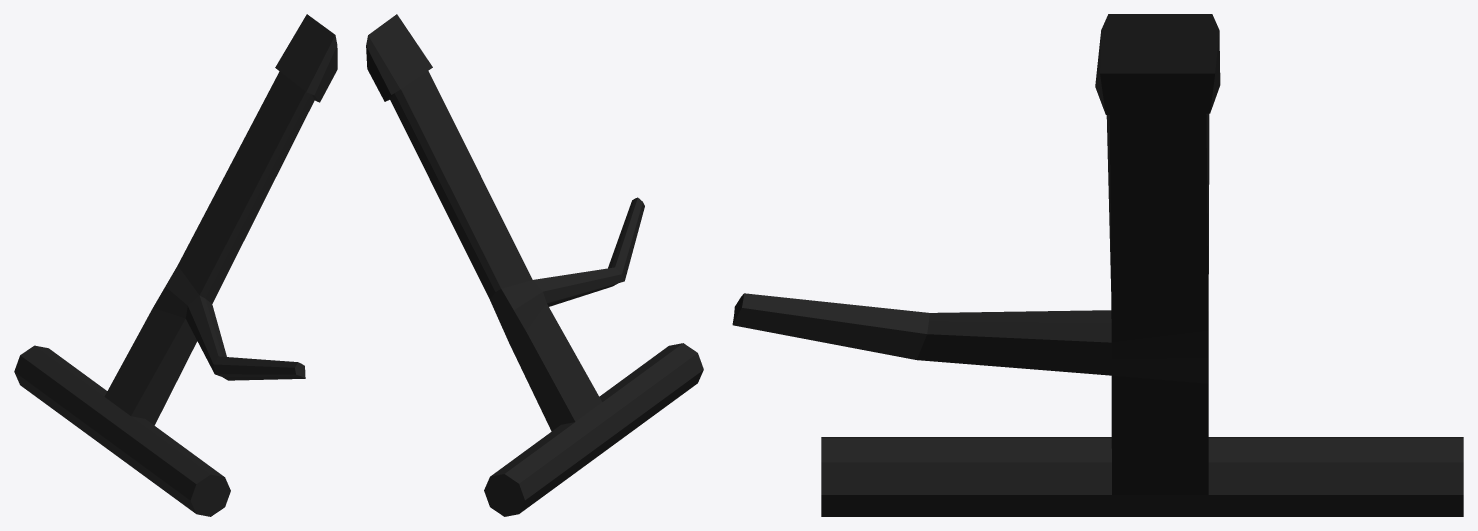
The model's file is guitarstand.gltf.
3 renders of one model, left to right at view 1: azimuth 30°, elevation 25°; view 2: azimuth 150°, elevation 25°; view 3: azimuth 270°, elevation 25°, orthographic. The views are drawn at different scales.
Visible parts, largest first — view 1: Cube; view 2: Cube; view 3: Cube.
Part boxes in pixels (x1,y1,x2,y2): Cube: [14, 14, 337, 516]; Cube: [366, 14, 703, 516]; Cube: [732, 14, 1463, 516].
Size of the model in its own units: 0.145 by 0.2321 by 0.2253.
1 material, 1 textured.
